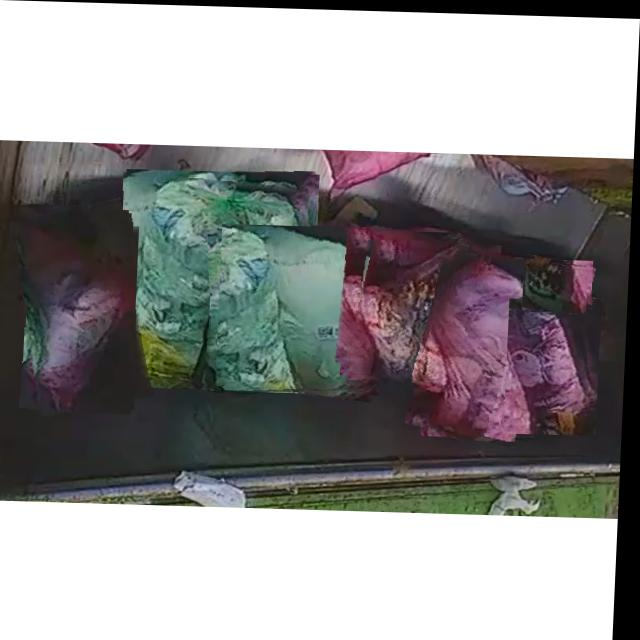general_trashbag: (126, 175, 312, 386), (225, 222, 382, 389), (527, 258, 587, 309)
other_trashbag: (16, 217, 139, 412), (437, 251, 534, 438), (363, 240, 471, 375), (512, 297, 596, 432)
